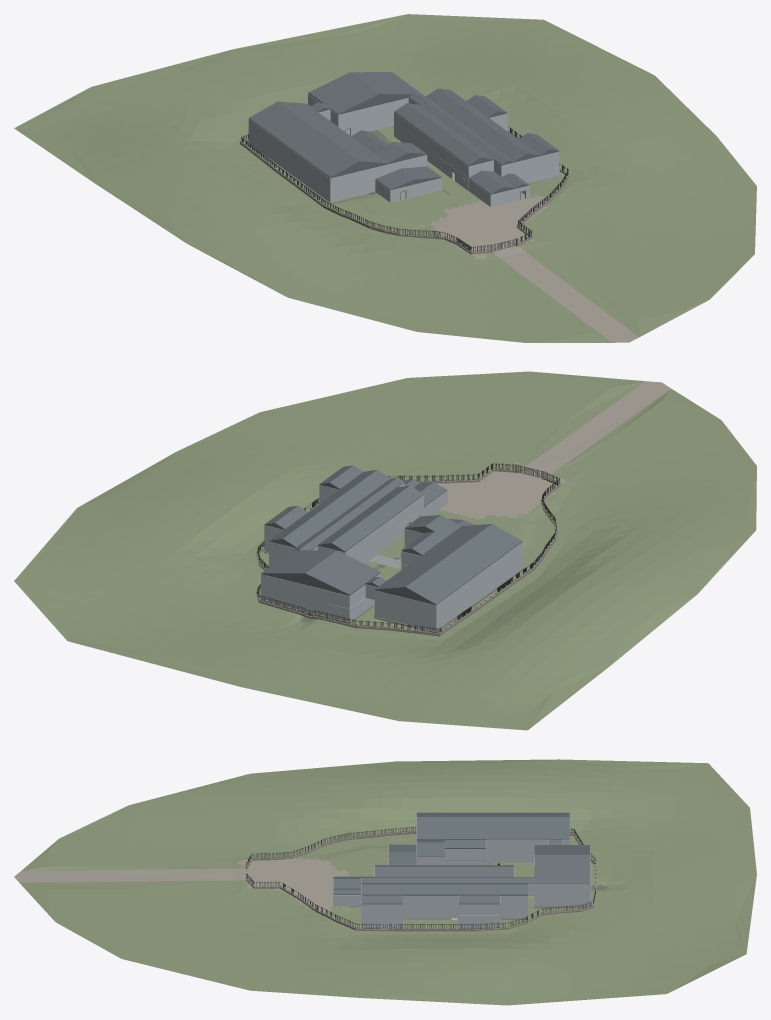
The model's file is college-containment.glb.
3 views of the same model, one above another, from view 1: azimuth 30°, elevation 25°; view 2: azimuth 150°, elevation 25°; view 3: azimuth 270°, elevation 25° (orthographic). The views are drawn at different scales.
Visible parts, largest first — view 1: College district apron, College campus earthworks with service throat, teaching-and-lecture roof west, east-residence-and-service roof west, teaching-and-lecture roof east, library roof west, west-residence roof west, Wall lecture S, library roof east, Wall lecture W, east-residence-and-service roof east, residence-spine roof west (+2 smaller); view 2: College district apron, College campus earthworks with service throat, teaching-and-lecture roof west, east-residence-and-service roof west, teaching-and-lecture roof east, library roof west, west-residence roof west, library roof east, Wall lecture W, east-residence-and-service roof east, residence-spine roof west, west-residence roof east (+1 smaller); view 3: College district apron, College campus earthworks with service throat, teaching-and-lecture roof east, east-residence-and-service roof east, library roof east, west-residence roof east, teaching-and-lecture roof west, College bearing wall retained part 09, residence-spine roof east, COLLEGE retained outside wall 4, library roof west, Wall upper-reading E (+7 smaller).
Part boxes in pixels (left/top/right/bottom): College district apron: left=14, top=14, right=756, bottom=342; College campus earthworks with service throat: left=231, top=126, right=580, bottom=264; teaching-and-lecture roof west: left=249, top=101, right=359, bottom=177; east-residence-and-service roof west: left=425, top=88, right=527, bottom=161; teaching-and-lecture roof east: left=278, top=101, right=388, bottom=164; library roof west: left=308, top=72, right=379, bottom=114; west-residence roof west: left=394, top=103, right=481, bottom=165; Wall lecture S: left=330, top=167, right=375, bottom=202; library roof east: left=351, top=72, right=420, bottom=94; Wall lecture W: left=293, top=151, right=330, bottom=202; east-residence-and-service roof east: left=438, top=88, right=540, bottom=155; residence-spine roof west: left=435, top=112, right=507, bottom=164; College district apron: left=14, top=371, right=756, bottom=730; College campus earthworks with service throat: left=243, top=461, right=578, bottom=640; teaching-and-lecture roof west: left=405, top=524, right=522, bottom=604; east-residence-and-service roof west: left=283, top=470, right=390, bottom=547; teaching-and-lecture roof east: left=375, top=524, right=491, bottom=590; library roof west: left=305, top=550, right=380, bottom=595; west-residence roof west: left=331, top=485, right=423, bottom=551; library roof east: left=261, top=550, right=336, bottom=574; Wall lecture W: left=483, top=542, right=522, bottom=595; east-residence-and-service roof east: left=269, top=470, right=376, bottom=541; residence-spine roof west: left=327, top=477, right=404, bottom=533; west-residence roof east: left=318, top=485, right=409, bottom=545; College district apron: left=14, top=759, right=756, bottom=1005; College campus earthworks with service throat: left=232, top=829, right=611, bottom=934; teaching-and-lecture roof east: left=416, top=817, right=569, bottom=839; east-residence-and-service roof east: left=361, top=884, right=527, bottom=895; library roof east: left=534, top=854, right=590, bottom=883; west-residence roof east: left=375, top=866, right=513, bottom=877; teaching-and-lecture roof west: left=416, top=812, right=569, bottom=816; College bearing wall retained part 09: left=486, top=839, right=548, bottom=851; residence-spine roof east: left=361, top=878, right=486, bottom=882; COLLEGE retained outside wall 4: left=486, top=851, right=534, bottom=862; library roof west: left=534, top=845, right=590, bottom=854; Wall upper-reading E: left=548, top=883, right=590, bottom=895.
Size of the model in its own units: 166 by 13.86 by 214.
72 materials, 42 textured.
